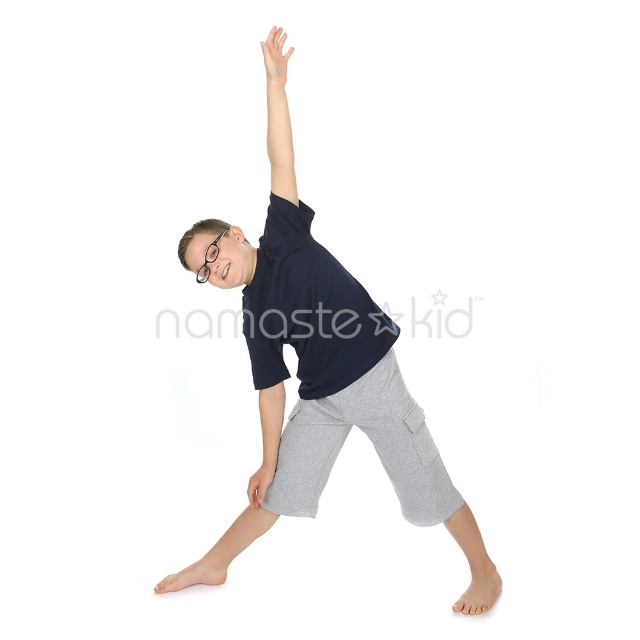Triangle_Pose: (131, 23, 517, 624)
